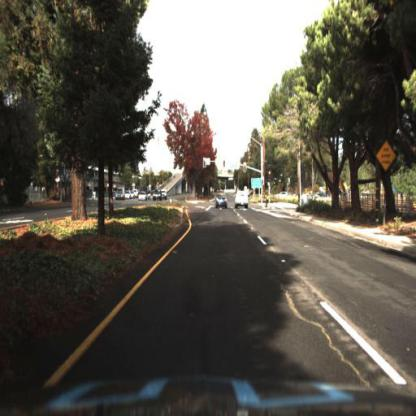biker: (265, 193, 273, 214)
car: (234, 188, 251, 211), (116, 188, 128, 205), (151, 184, 162, 202), (217, 195, 229, 209), (138, 189, 148, 203), (126, 189, 134, 203), (162, 188, 170, 200)
trafficLight-Red: (267, 170, 273, 180)
